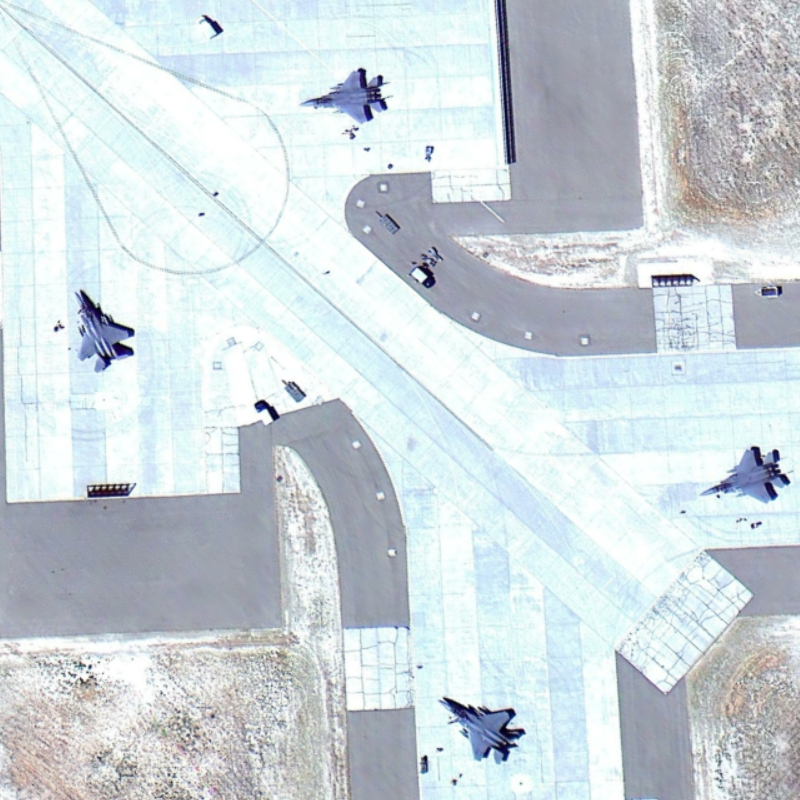A13: (431, 686, 532, 772), (694, 432, 796, 516), (60, 278, 143, 380), (296, 61, 396, 134)
